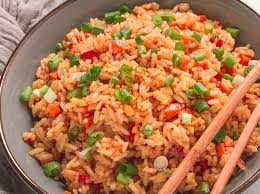Nasi goreng: (31, 9, 260, 193)
